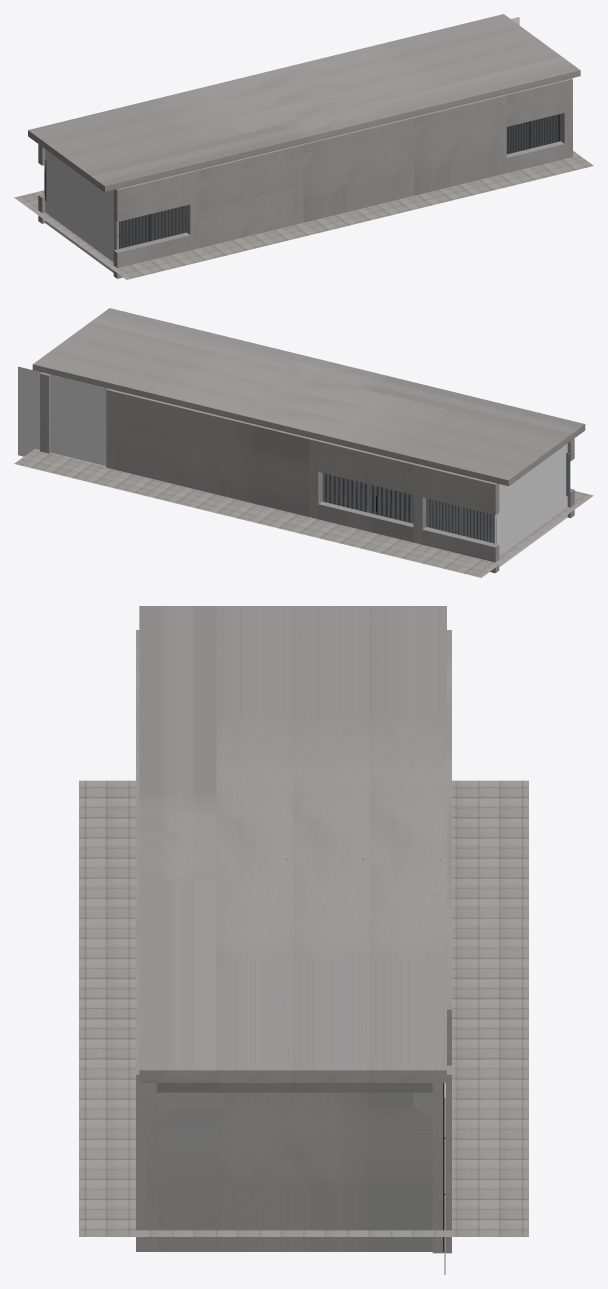
File: Cenário.fbx
3 renders of one model, top to bottom at view 1: azimuth 30°, elevation 25°; view 2: azimuth 150°, elevation 25°; view 3: azimuth 270°, elevation 25°, orthographic. The views are drawn at different scales.
Parts seen in each view (by area): view 1: Teto, Chão, Viga.006, Viga.008, Cube.005, Viga.003, Viga.004, Viga.015, Viga.014, Viga.024, Pilar_1, Viga.020 (+14 smaller); view 2: Teto, Viga.012, Chão, Cube.012, Cube.005, Viga.011, Viga.017, Viga.025, Viga.016, Plane.005, Plane.006, Viga.018 (+7 smaller); view 3: Teto, Chão, Viga.023, Pilar_1.002, Pilar_2.002, Viga.022, Viga.012.
Part boxes in pixels (<box>): Teto: <box>28,14,580,192</box>; Chão: <box>14,151,593,279</box>; Viga.006: <box>303,131,405,222</box>; Viga.008: <box>414,108,497,195</box>; Cube.005: <box>44,149,118,272</box>; Viga.003: <box>199,158,294,210</box>; Viga.004: <box>199,198,294,247</box>; Viga.015: <box>113,183,190,221</box>; Viga.014: <box>113,232,190,278</box>; Viga.024: <box>506,92,564,126</box>; Pilar_1: <box>182,169,207,250</box>; Viga.020: <box>506,141,564,172</box>; Teto: <box>32,308,585,486</box>; Viga.012: <box>115,391,310,516</box>; Chão: <box>14,448,593,577</box>; Cube.012: <box>18,366,113,465</box>; Cube.005: <box>494,443,567,566</box>; Viga.011: <box>318,452,413,494</box>; Viga.017: <box>318,501,413,542</box>; Viga.025: <box>422,478,499,514</box>; Viga.016: <box>422,527,499,573</box>; Plane.005: <box>322,473,369,512</box>; Plane.006: <box>368,484,413,523</box>; Viga.018: <box>318,440,414,473</box>; Teto: <box>139,606,446,1082</box>; Chão: <box>79,780,528,1236</box>; Viga.023: <box>157,1092,432,1251</box>; Pilar_1.002: <box>136,1066,175,1251</box>; Pilar_2.002: <box>413,1065,451,1253</box>; Viga.022: <box>157,1081,432,1092</box>; Viga.012: <box>447,811,451,1000</box>.
Size of the model in its own units: 7725 by 1436 by 3068.
